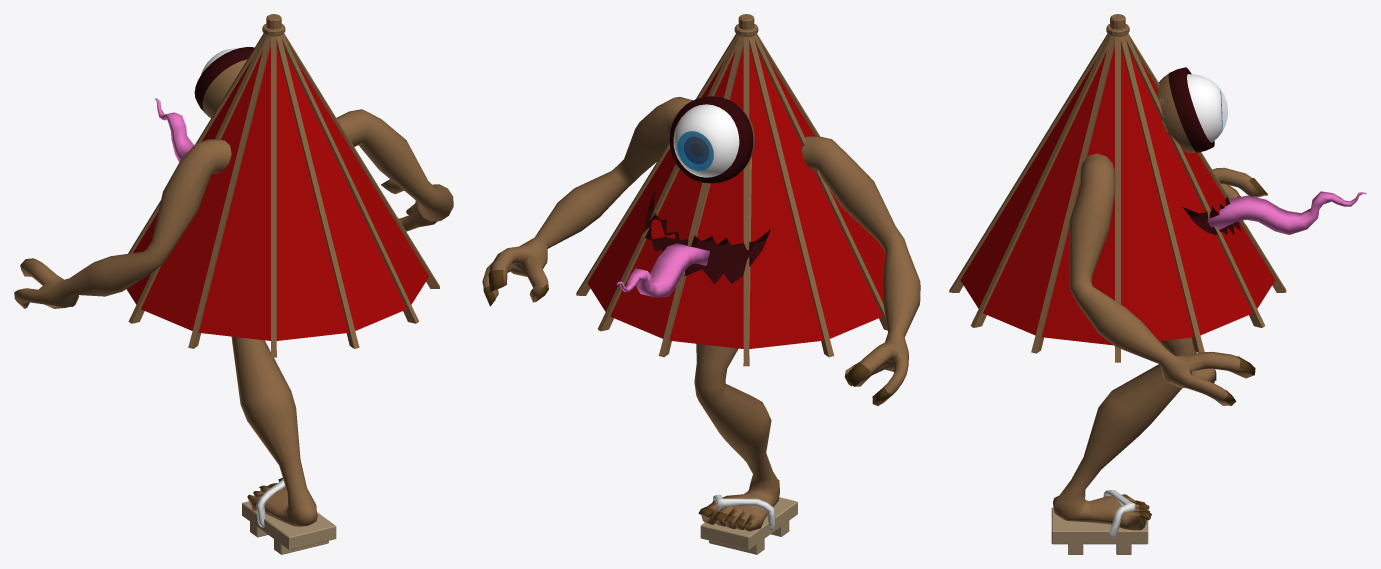
File: tsukumogami.glb
3 renders of one model, left to right at view 1: azimuth 30°, elevation 25°; view 2: azimuth 150°, elevation 25°; view 3: azimuth 270°, elevation 25°, orthographic. The views are drawn at different scales.
Visible parts, largest first — view 1: Cylinder_2, Cube.001_7, Sphere.001_4, Cube_5; view 2: Cylinder_2, Sphere.004_3, Cube_5, Sphere.001_4, Cube.001_7, Icosphere.001_6, Cube.002_8; view 3: Cylinder_2, Cube_5, Sphere.001_4, Cube.001_7, Sphere.004_3, Cube.002_8.
Boxes of the visible parts, x1,y1,x2,y2 form: Cylinder_2: [14, 14, 453, 526]; Cube.001_7: [242, 501, 336, 554]; Sphere.001_4: [194, 47, 254, 117]; Cube_5: [155, 98, 193, 162]; Cylinder_2: [482, 14, 920, 531]; Sphere.004_3: [673, 104, 739, 177]; Cube_5: [616, 243, 709, 297]; Sphere.001_4: [669, 96, 754, 183]; Cube.001_7: [700, 491, 797, 554]; Icosphere.001_6: [654, 217, 767, 280]; Cube.002_8: [713, 494, 775, 531]; Cylinder_2: [949, 14, 1286, 530]; Cube_5: [1207, 191, 1366, 234]; Sphere.001_4: [1157, 67, 1214, 152]; Cube.001_7: [1051, 507, 1148, 554]; Sphere.004_3: [1187, 74, 1227, 142]; Cube.002_8: [1103, 490, 1135, 538].
Size of the model in its own units: 6.25 by 7.47 by 5.39.
